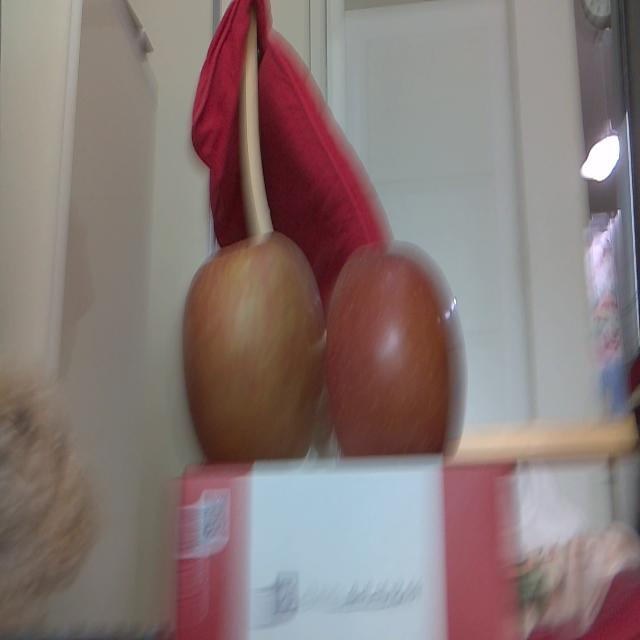apple: (181, 224, 324, 468), (328, 236, 466, 461)
